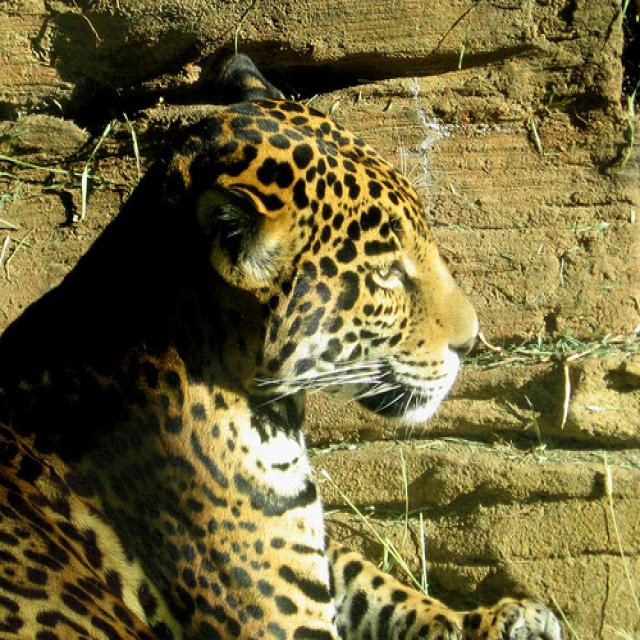Leopard: (0, 95, 564, 635)
